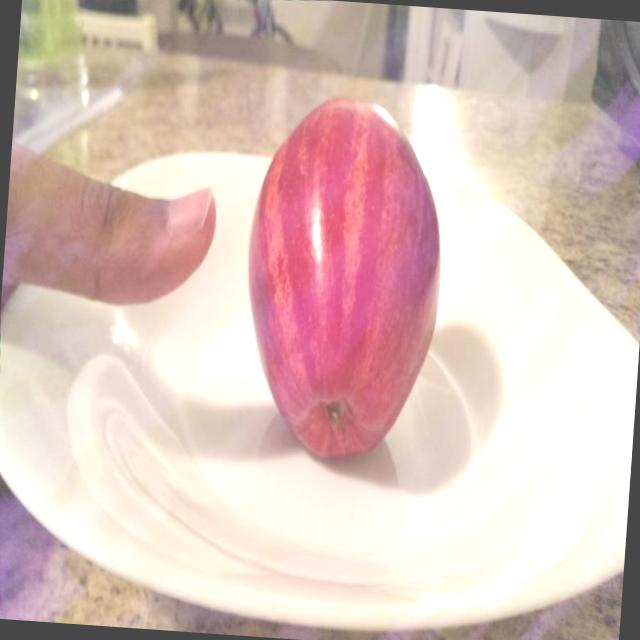Apple: (218, 72, 471, 488)
Finger: (45, 144, 229, 322)
